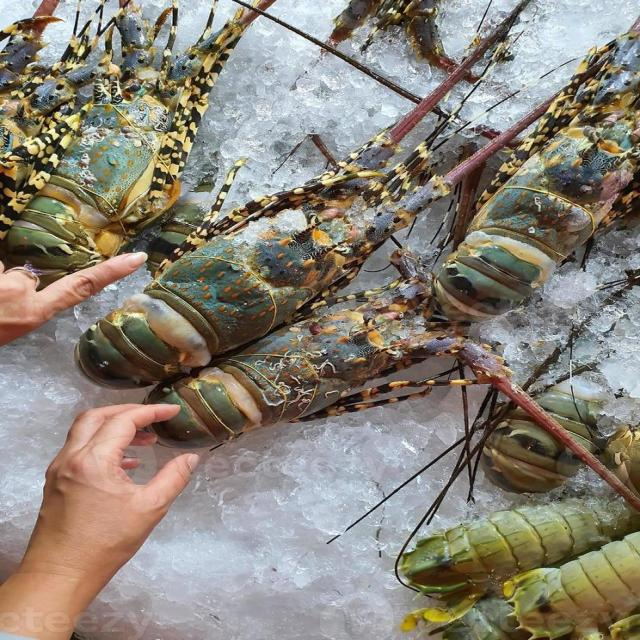Lobster: (76, 6, 532, 388), (2, 6, 257, 280), (148, 253, 487, 448), (435, 25, 639, 321)
